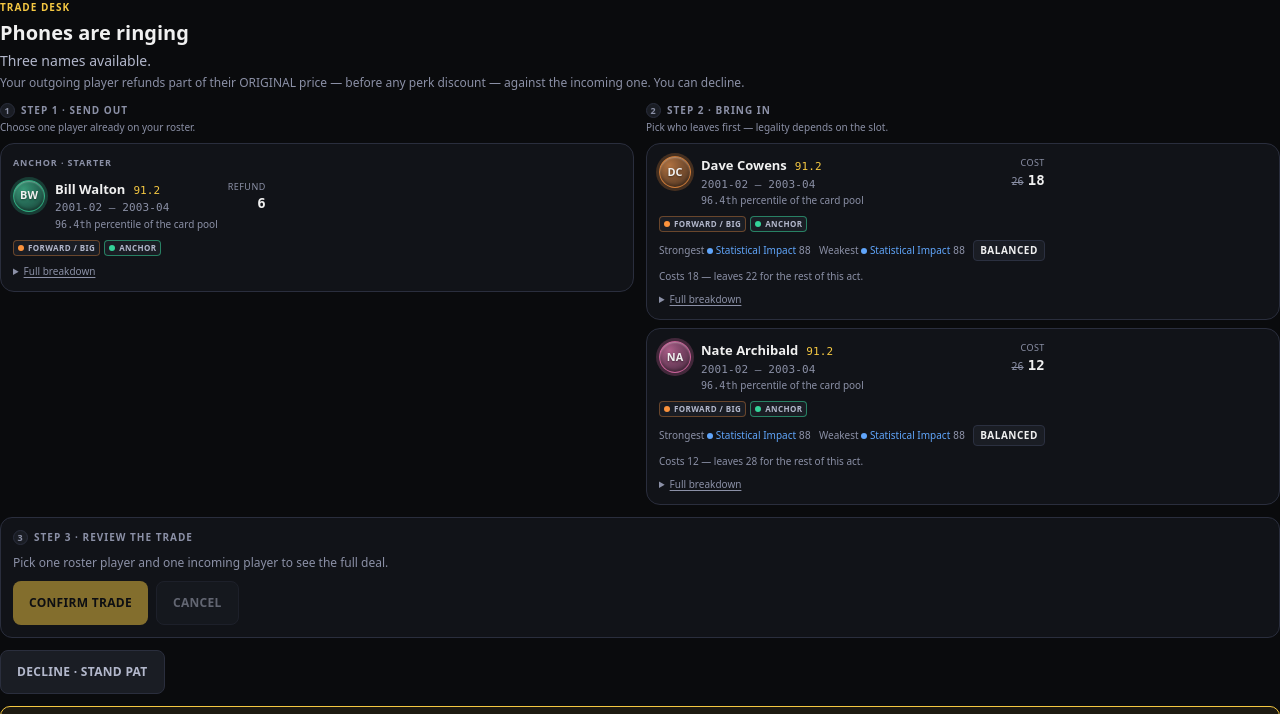
it: TradeDesk › recesses an ineligible offer by fill and border, never by an opacity wash
Click the button with test id "rtt-trade-out-anchor" at (317, 217), box x1=0 y1=143 x2=634 y2=292
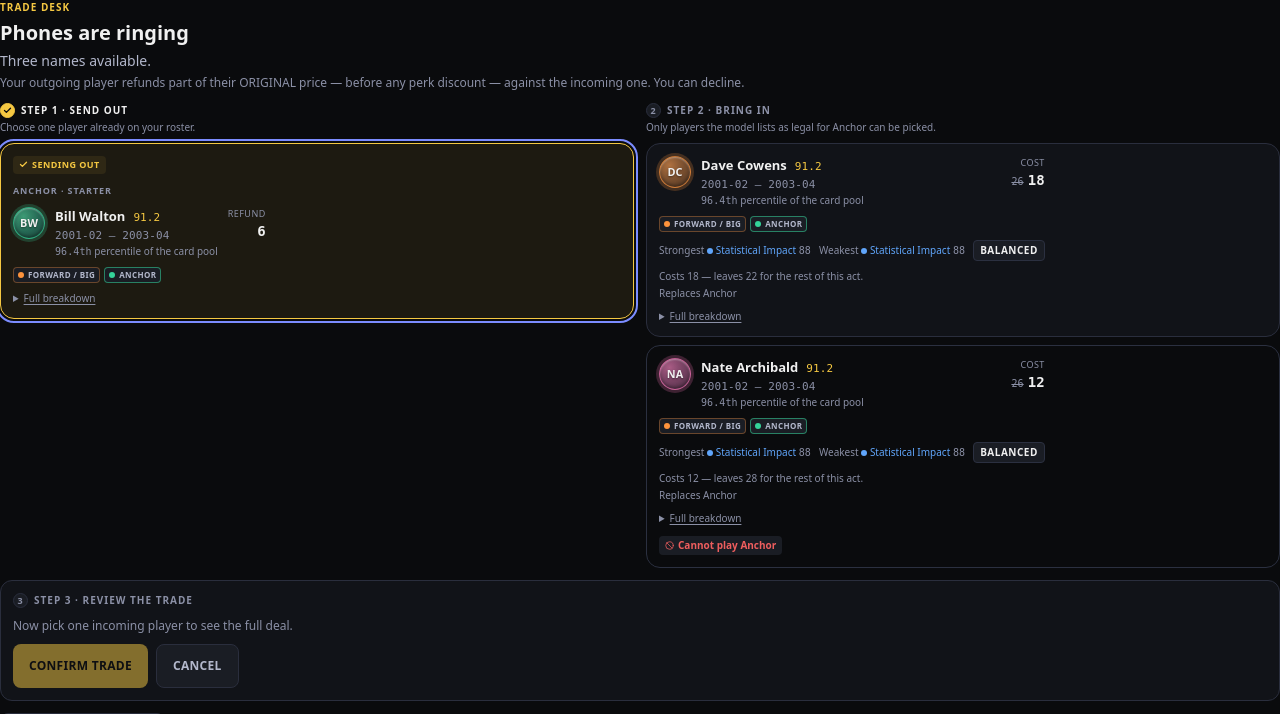
Expected: the button with test id "rtt-trade-in-in-illegal" is enabled, x1=646 y1=345 x2=1279 y2=568
Expected: the text "Cannot play Anchor" is shown, x1=659 y1=536 x2=782 y2=555
